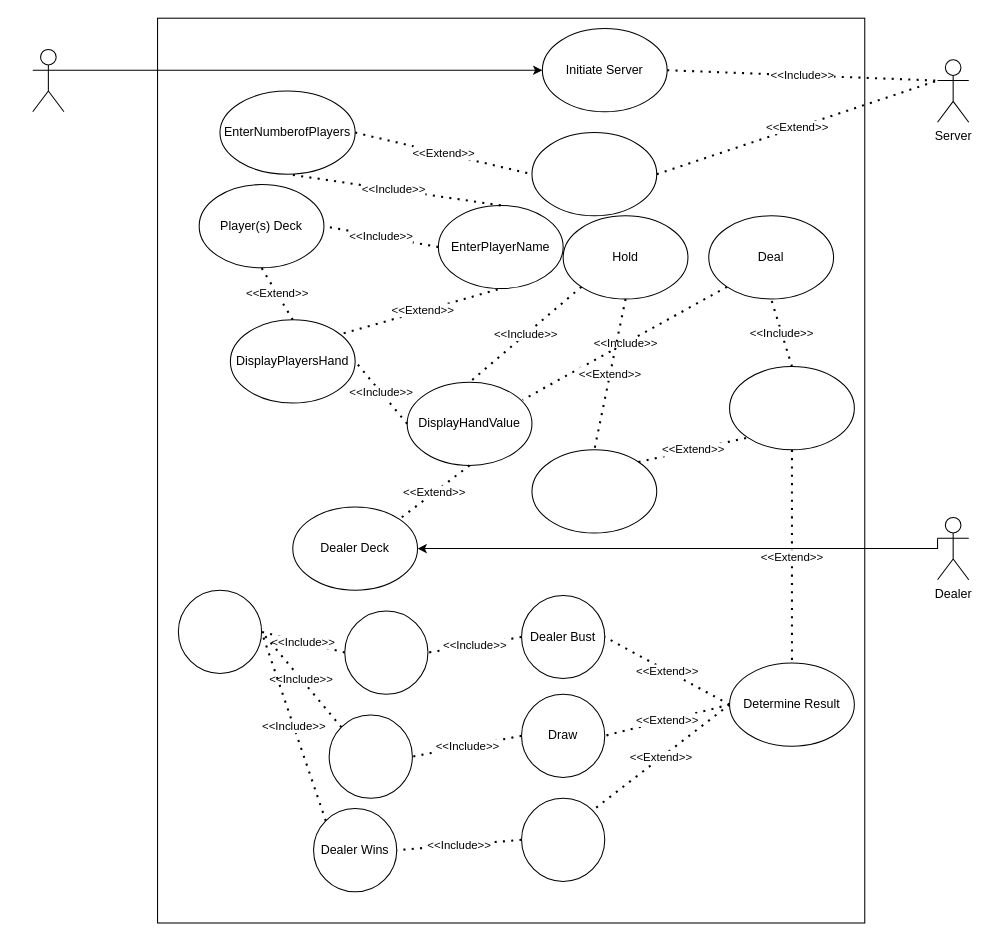
This 989x941 diagram has some shape labels left out. Each missing label, with the centre of its shape:
Client/User: the point at 48,80
CompareValues: the point at 594,491
Game Ends: the point at 219,631
Launch Game: the point at 594,174
Obtain Card: the point at 791,408
Player Bust: the point at 563,839
Player Wins: the point at 386,652
Push: the point at 370,756
